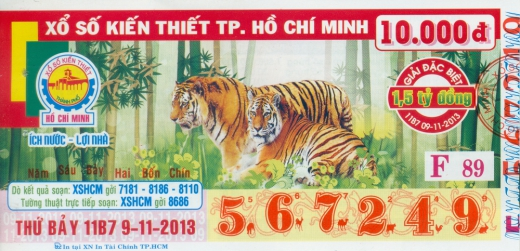serial_zone: (206, 189, 501, 242)
